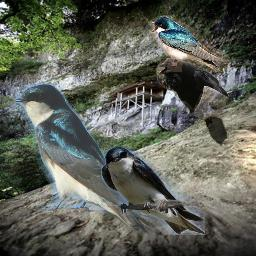Crow: (157, 58, 229, 146)
Swallow: (14, 83, 170, 234), (101, 147, 205, 235), (149, 15, 231, 72)
